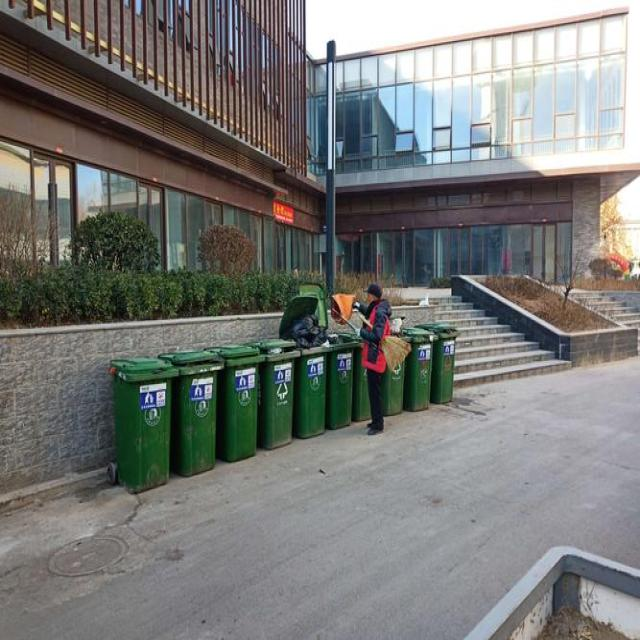garbage_bin: (108, 354, 178, 492), (160, 351, 224, 477), (216, 344, 265, 461), (256, 339, 300, 448), (324, 333, 361, 429), (404, 325, 437, 412), (432, 321, 460, 403)
overflow: (291, 316, 326, 438)
